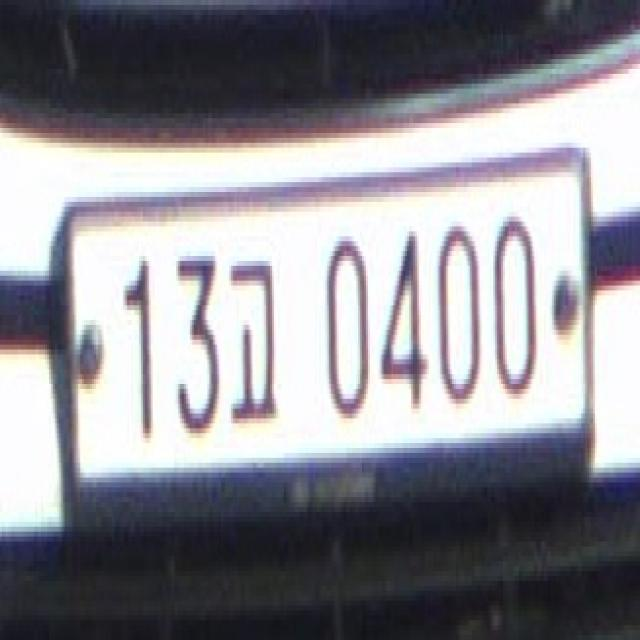0: (487, 197, 550, 413), (323, 232, 378, 434), (432, 216, 488, 408)
1: (122, 231, 166, 443)
3: (172, 236, 221, 443)
4: (379, 226, 428, 434)
go: (223, 241, 282, 443)
license_plate: (59, 128, 597, 532)
